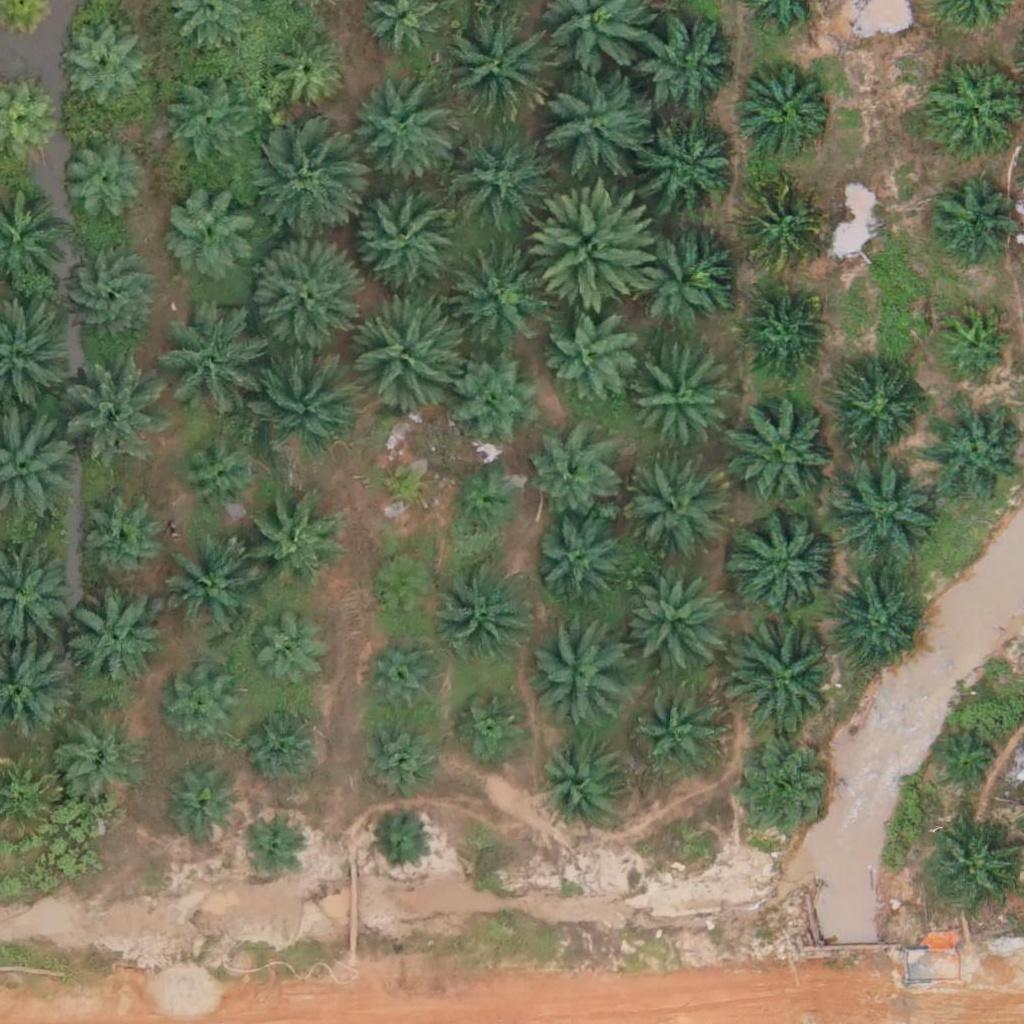Kelapa_Sawit: (534, 185, 659, 311), (536, 63, 649, 177), (825, 451, 938, 564), (726, 395, 839, 508), (730, 506, 843, 619), (438, 11, 551, 124), (442, 123, 555, 236), (349, 178, 462, 291), (246, 239, 359, 352), (246, 341, 358, 455), (729, 618, 841, 731), (342, 79, 454, 192), (347, 296, 459, 409), (244, 130, 356, 243), (57, 347, 169, 460), (824, 572, 924, 673), (736, 56, 836, 157), (732, 745, 832, 846), (643, 115, 743, 216), (629, 352, 729, 453), (624, 464, 724, 565), (620, 572, 720, 673), (446, 244, 546, 345), (448, 345, 548, 446), (240, 493, 340, 594), (154, 542, 254, 643), (154, 314, 254, 415), (64, 590, 164, 691), (439, 559, 539, 660), (638, 22, 738, 122), (628, 222, 728, 322), (531, 624, 631, 724), (161, 180, 261, 280), (59, 248, 159, 348), (924, 174, 1012, 262), (835, 369, 923, 457), (735, 180, 823, 268), (528, 432, 616, 520), (353, 715, 441, 803), (261, 29, 349, 117), (175, 431, 263, 519), (56, 22, 144, 110), (531, 519, 618, 608), (161, 79, 248, 168), (738, 288, 825, 376), (638, 690, 725, 778), (540, 739, 627, 827), (546, 312, 633, 400), (363, 634, 450, 722), (58, 138, 145, 226), (80, 500, 167, 588), (57, 720, 144, 808), (246, 617, 321, 693), (248, 705, 323, 781), (447, 465, 522, 541), (936, 305, 1011, 381), (366, 552, 441, 628), (454, 687, 529, 762), (166, 672, 241, 747), (164, 772, 239, 847), (930, 729, 1005, 804), (237, 813, 300, 876), (370, 809, 432, 872), (373, 453, 435, 516)
